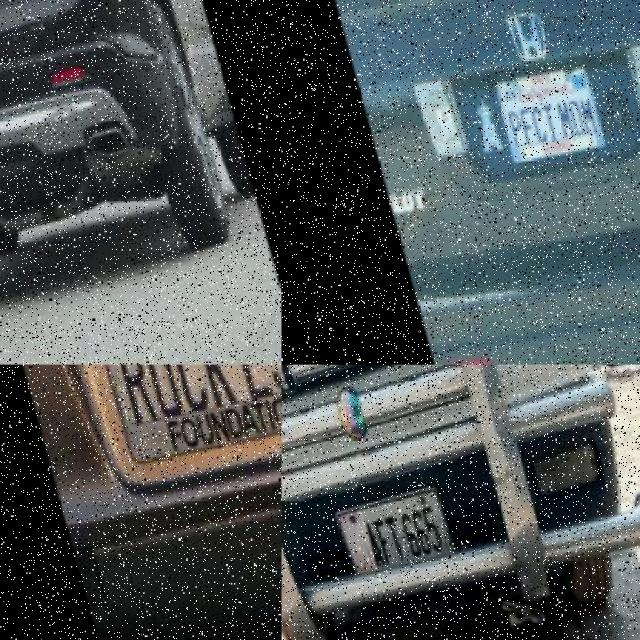licenseplate: (76, 365, 282, 492), (329, 478, 457, 584), (489, 62, 606, 176), (0, 0, 35, 31)
